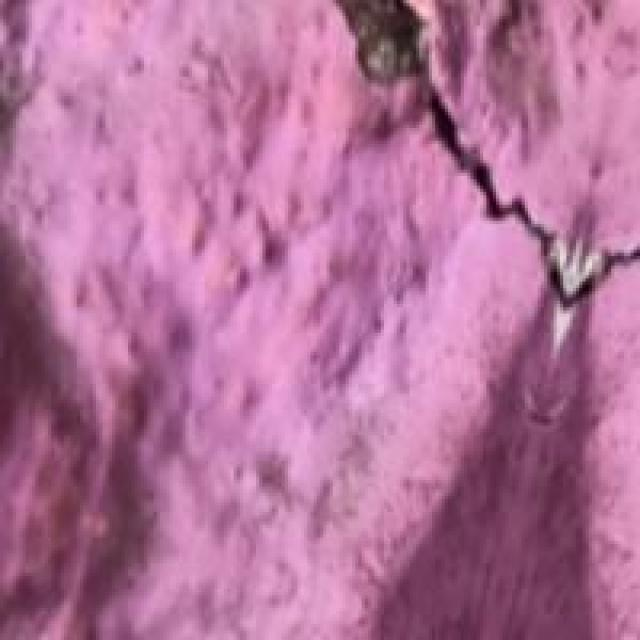Crack: (333, 0, 637, 349)
